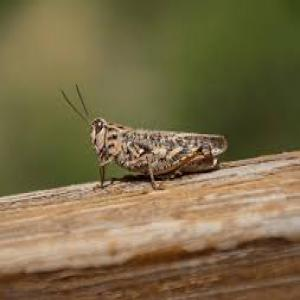locust: (66, 82, 219, 194)
